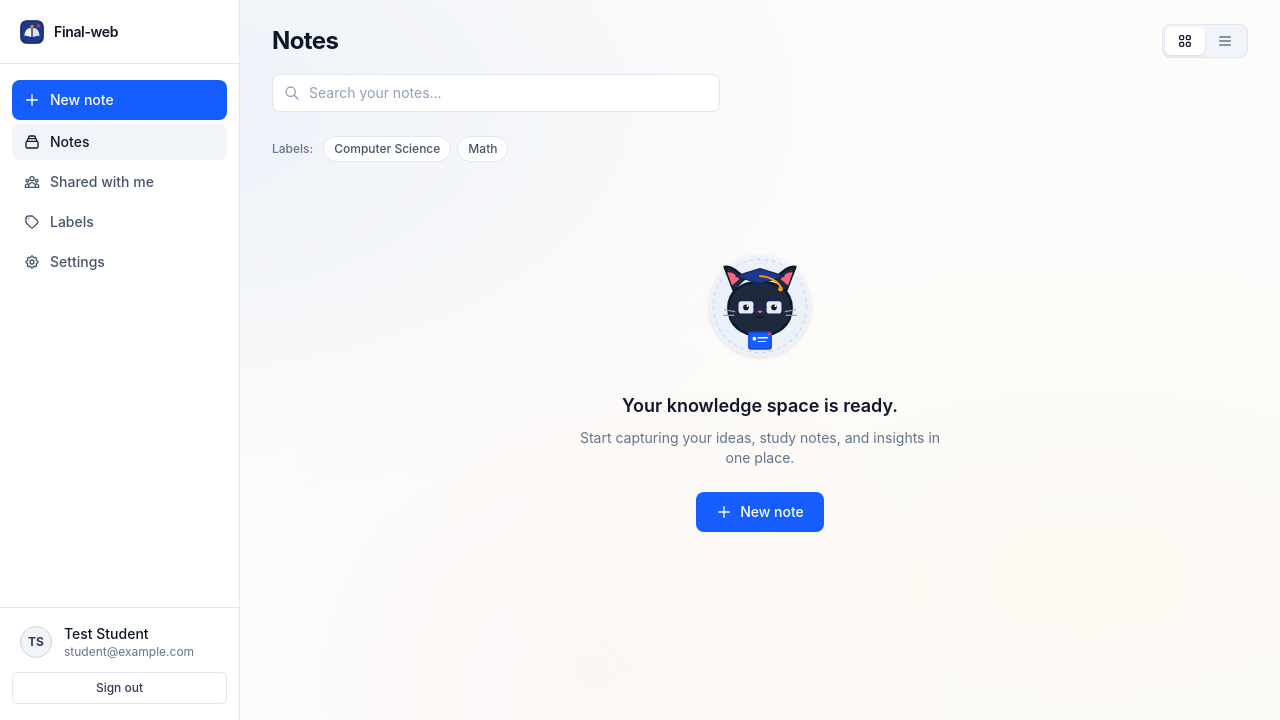
Test: LABEL-01 Label CRUD Management › creates new label with trimmed name and adds it to list
Expected: the element with test id "label-filters-bar" is shown, [272, 136, 508, 162]
Click the button with test id "labels-nav-link" at (120, 222), box [12, 204, 227, 240]
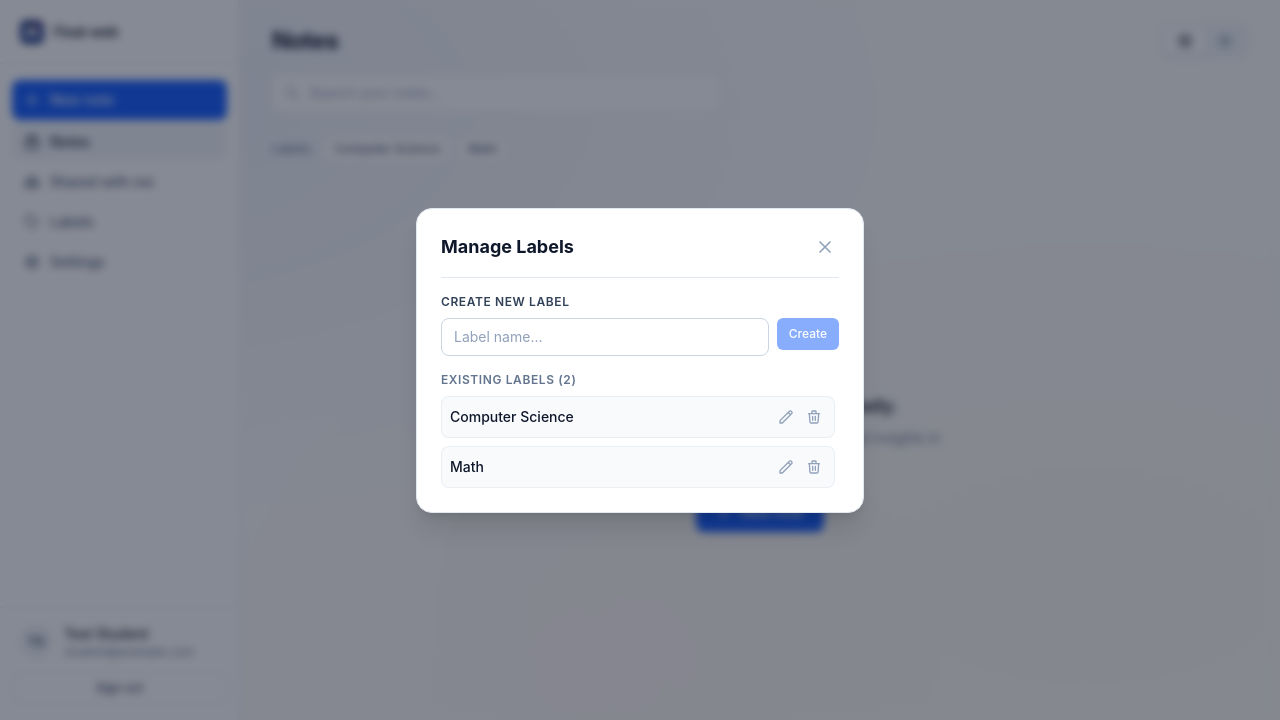
Type "  Physics  " into the field with test id "new-label-name-input" at (605, 336), box [441, 318, 769, 356]
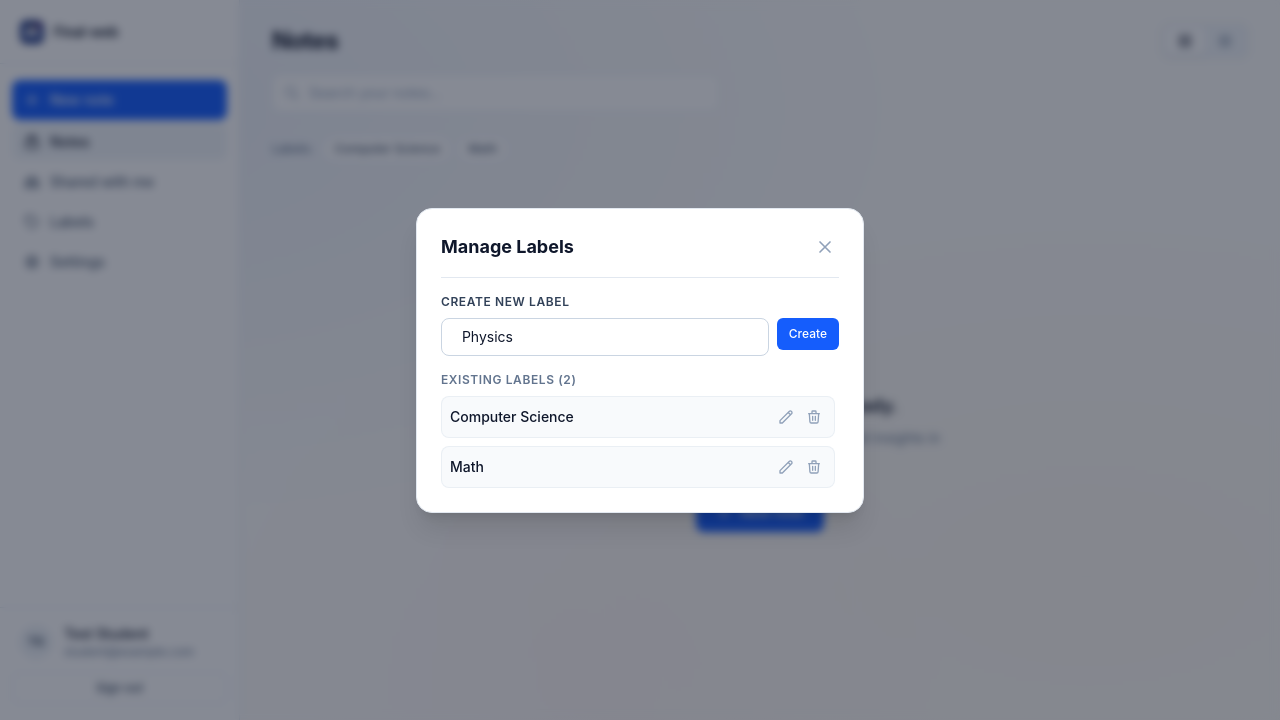
Submit the form with test id "create-label-form", box [441, 294, 839, 356]
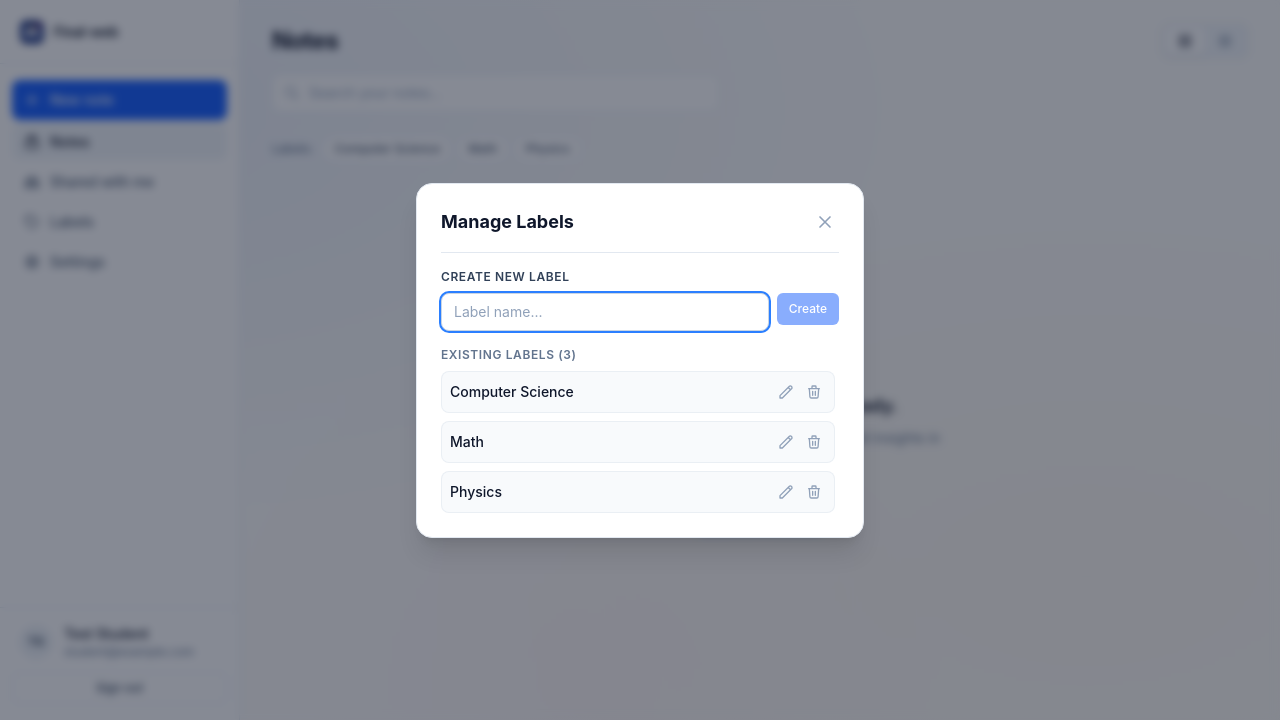
Result: the text "Physics" is shown at [450, 482, 502, 502]
